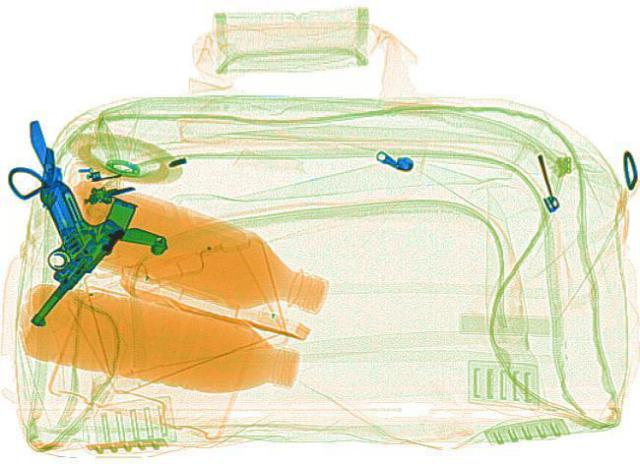Gun: (0, 182, 203, 338), (11, 110, 125, 265)
